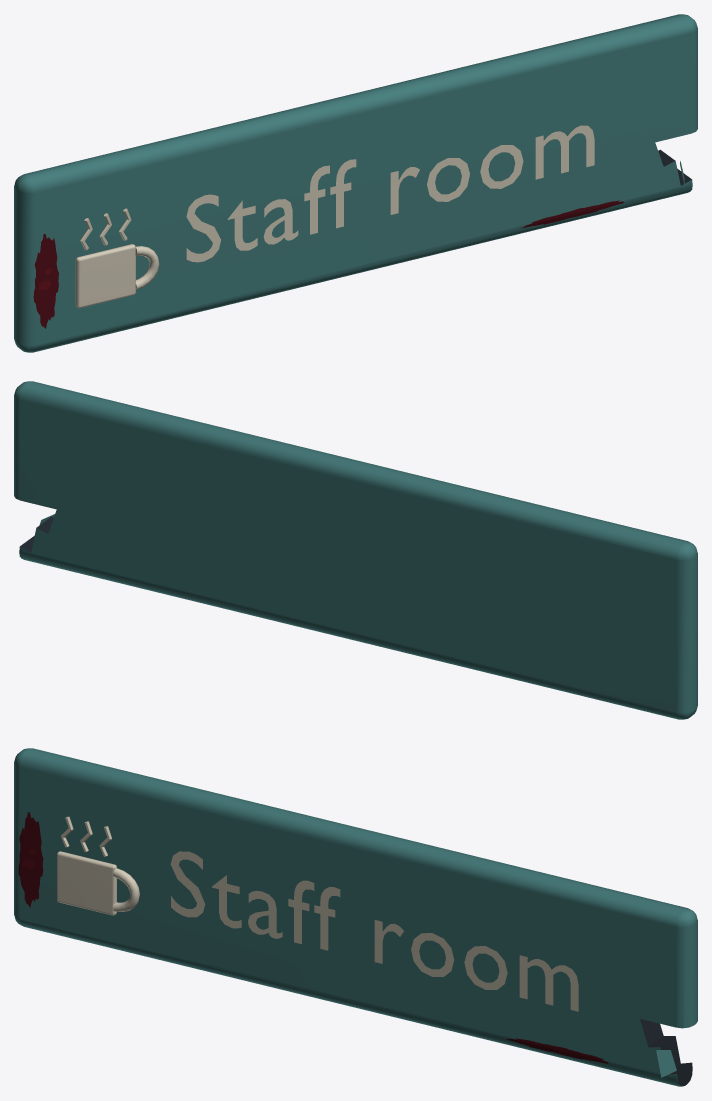
The model's file is lounge_staff_room_sign.glb.
The picture shows the model from 3 angles, top to bottom: view 1: azimuth 30°, elevation 25°; view 2: azimuth 150°, elevation 25°; view 3: azimuth 330°, elevation 25°; orthographic projection.
Visible parts, largest first — view 1: lounge_staff_room_sign_Outbreak_Static; view 2: lounge_staff_room_sign_Outbreak_Static; view 3: lounge_staff_room_sign_Outbreak_Static.
Boxes of the visible parts, x1,y1,x2,y2 form: lounge_staff_room_sign_Outbreak_Static: (14,14,697,352); lounge_staff_room_sign_Outbreak_Static: (14,381,697,719); lounge_staff_room_sign_Outbreak_Static: (14,748,697,1086).
Size of the model in its own units: 1.58 by 0.39 by 0.08.
